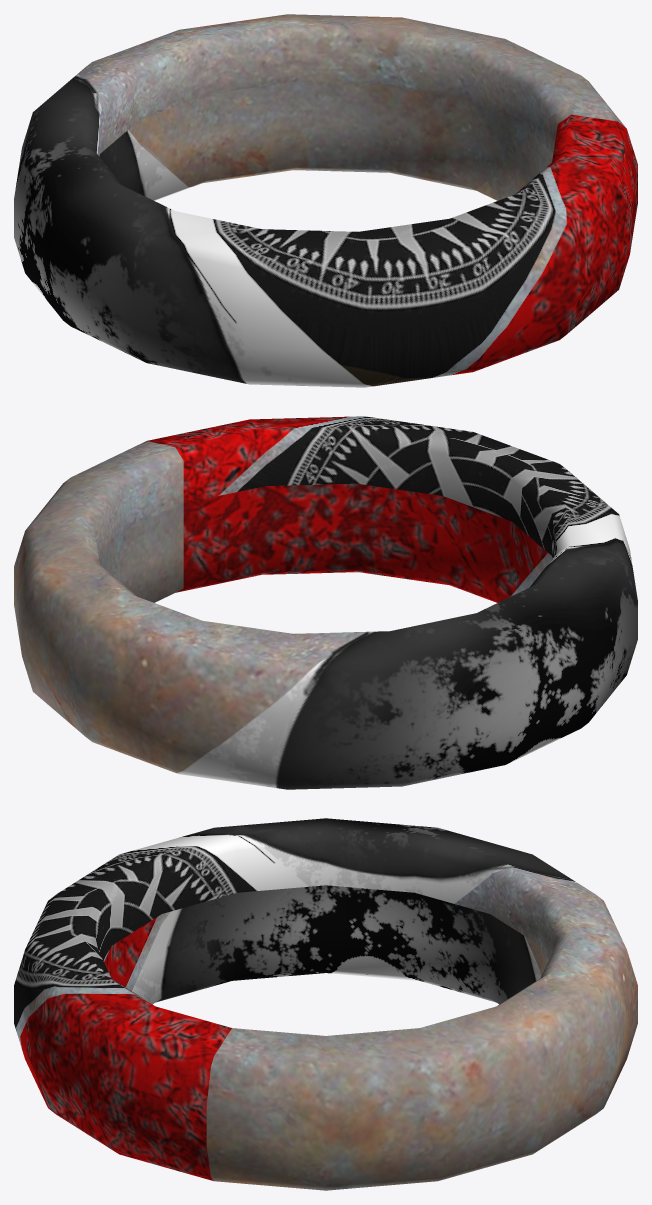
3 views of the same model, one above another, from view 1: azimuth 30°, elevation 25°; view 2: azimuth 150°, elevation 25°; view 3: azimuth 270°, elevation 25° (orthographic).
Parts seen in each view (by area): view 1: ring; view 2: ring; view 3: ring.
Part boxes in pixels (box(x1,y1,x2,y2)): ring: box(14, 14, 637, 387); ring: box(14, 416, 637, 789); ring: box(14, 818, 637, 1190).
Bounding box in the file's own units: 3 × 0.7657 × 3.
